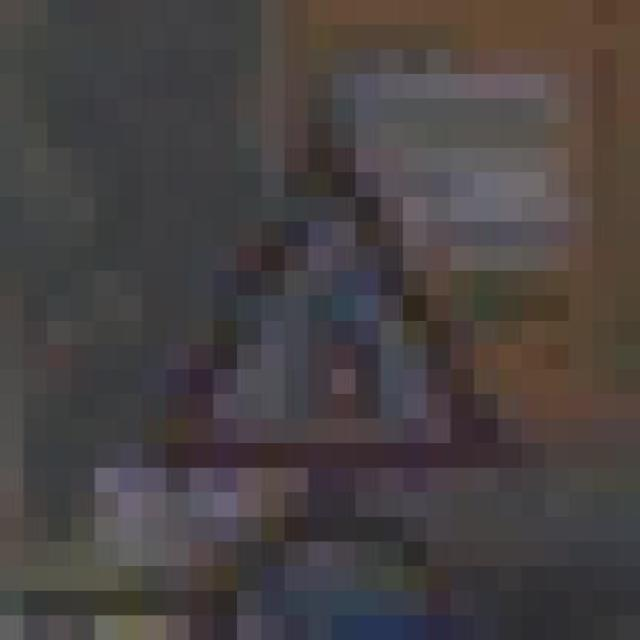-Road narrows on right: (118, 74, 545, 492)
